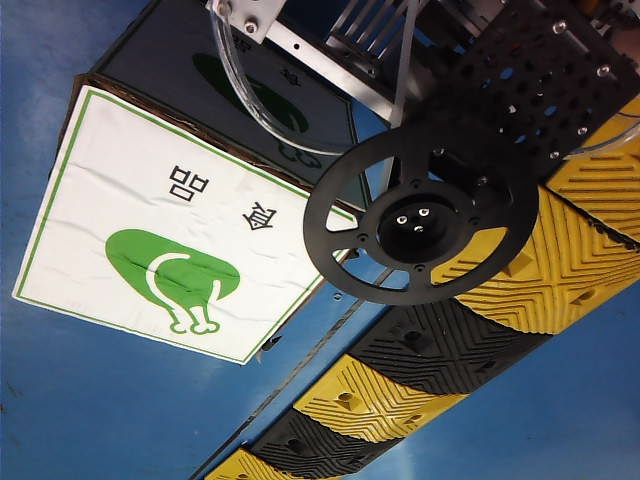Cube_food: (83, 157, 287, 343)
